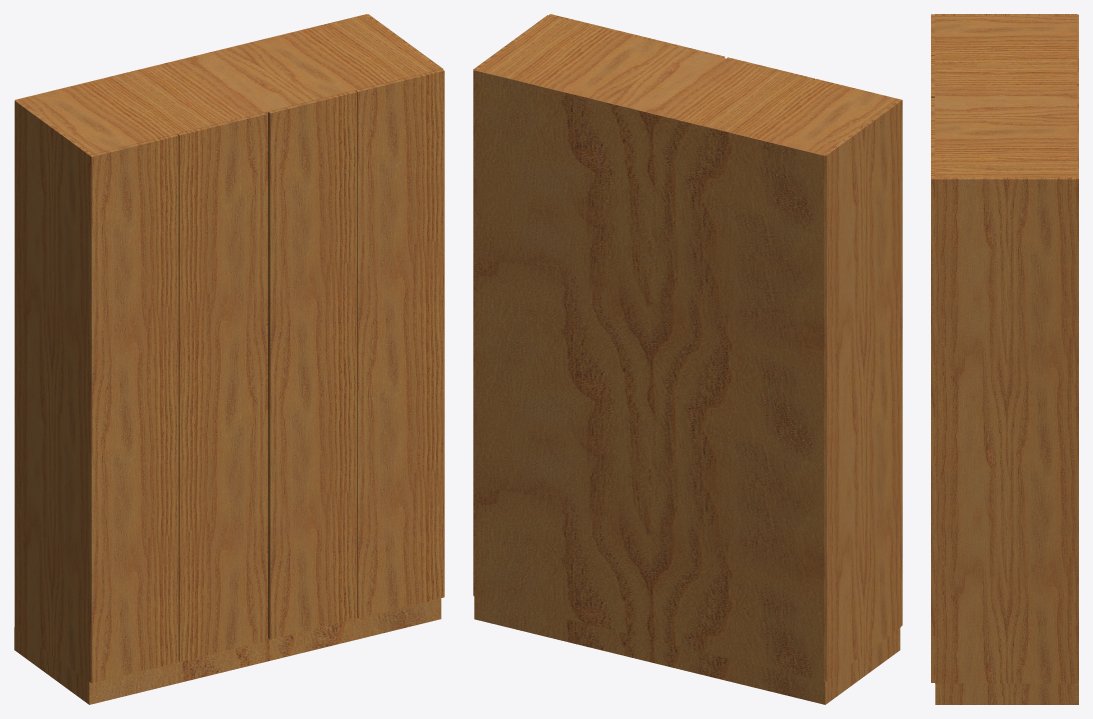
The model's file is Closet4Doors.glb.
3 views of the same model, side by side, from view 1: azimuth 30°, elevation 25°; view 2: azimuth 150°, elevation 25°; view 3: azimuth 270°, elevation 25° (orthographic). The views are drawn at different scales.
Parts seen in each view (by area): view 1: door1, door2, door3, door4, leftPanel, topPanel, sokolFront, sokolLeft, divider; view 2: backPanel, leftPanel, topPanel, sokolBack, sokolLeft, door1, rightPanel; view 3: rightPanel, topPanel, sokolRight, door4, backPanel, leftPanel.
Boxes of the visible parts, box(x1,y1,x2,y2) form: door1: box(89, 134, 178, 683); door2: box(177, 113, 266, 661); door3: box(268, 90, 356, 639); door4: box(355, 69, 444, 618); leftPanel: box(14, 100, 92, 682); topPanel: box(18, 15, 439, 154); sokolFront: box(87, 598, 441, 704); sokolLeft: box(16, 629, 87, 702); divider: box(266, 115, 267, 638); backPanel: box(473, 70, 825, 681); leftPanel: box(823, 100, 900, 681); topPanel: box(477, 16, 896, 154); sokolBack: box(474, 596, 827, 704); sokolLeft: box(827, 629, 898, 703); door1: box(815, 79, 902, 626); rightPanel: box(473, 15, 550, 595); rightPanel: box(935, 177, 1077, 683); topPanel: box(935, 15, 1077, 177); sokolRight: box(939, 683, 1074, 704); door4: box(931, 138, 934, 682); backPanel: box(1077, 14, 1078, 683); leftPanel: box(935, 14, 1077, 15).
Size of the model in its own units: 1.62 by 2.4 by 0.6115.
Materials: 3 (1 with a texture image).
